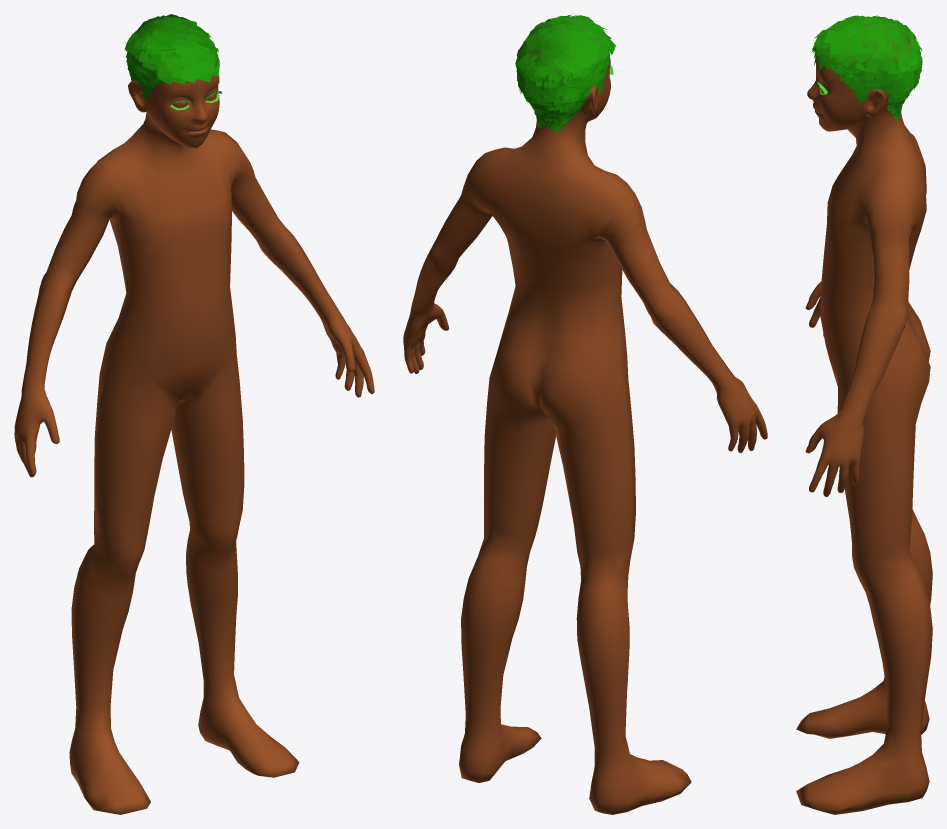
Rendered from SM_Kid01.fbx.
The picture shows the model from 3 angles, left to right: view 1: azimuth 30°, elevation 25°; view 2: azimuth 150°, elevation 25°; view 3: azimuth 270°, elevation 25°; orthographic projection.
Parts seen in each view (by area): view 1: Body; view 2: Body; view 3: Body.
Boxes of the visible parts, x1,y1,x2,y2 form: Body: [14, 14, 374, 814]; Body: [403, 14, 767, 814]; Body: [796, 15, 932, 814].
Size of the model in its own units: 72.12 by 150 by 24.87.
